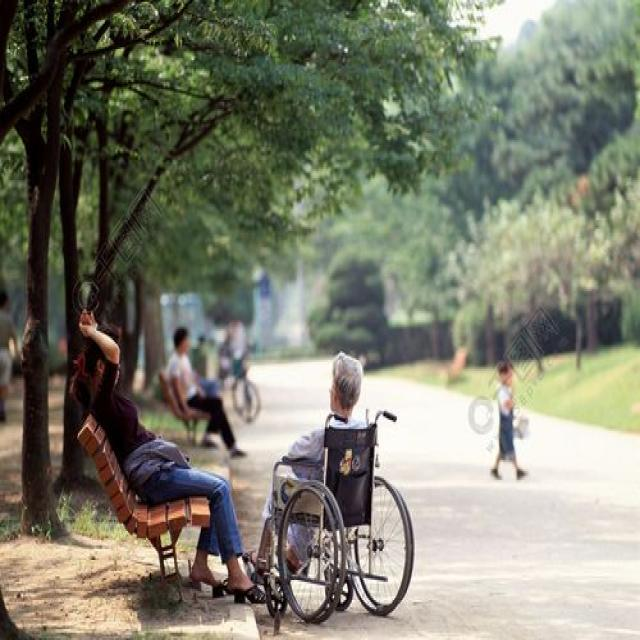wheelchairs: (254, 401, 419, 628)
